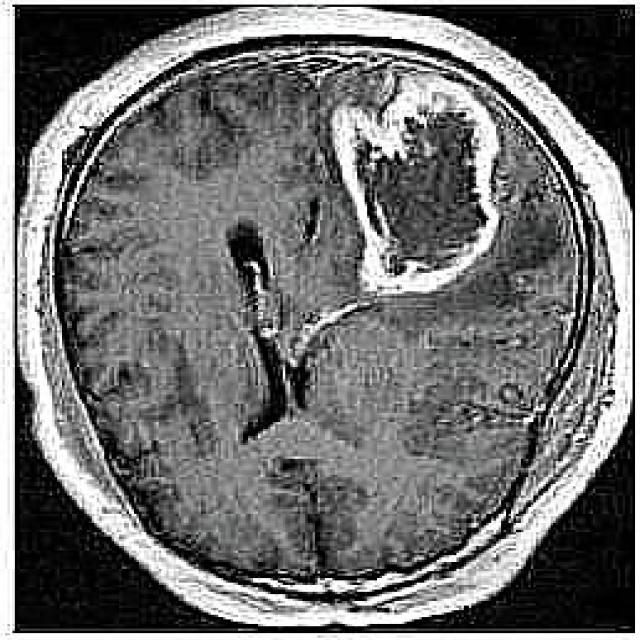Tumor-Cell: (334, 92, 514, 306)
